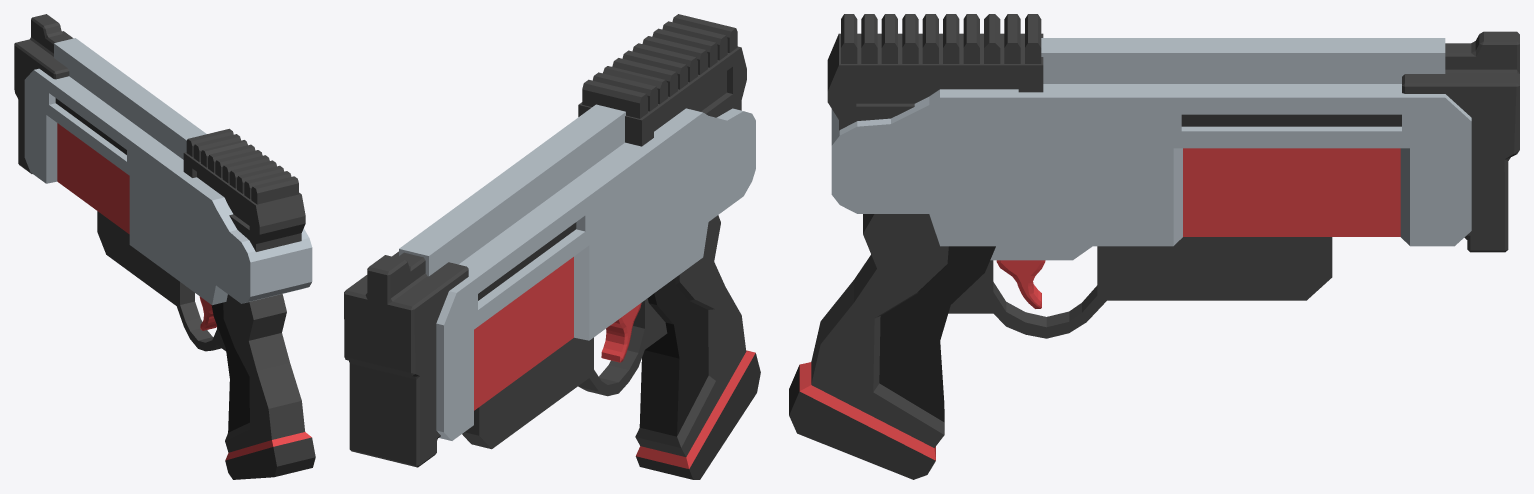
Rendered from gun.gltf.
3 views of the same model, side by side, from view 1: azimuth 30°, elevation 25°; view 2: azimuth 150°, elevation 25°; view 3: azimuth 270°, elevation 25° (orthographic). The views are drawn at different scales.
Parts seen in each view (by area): view 1: Pistol; view 2: Pistol; view 3: Pistol.
Part boxes in pixels (x1,y1,x2,y2): Pistol: [14, 14, 315, 479]; Pistol: [344, 14, 760, 479]; Pistol: [789, 14, 1519, 479].
Size of the model in its own units: 0.3813 by 1.82 by 2.75.
